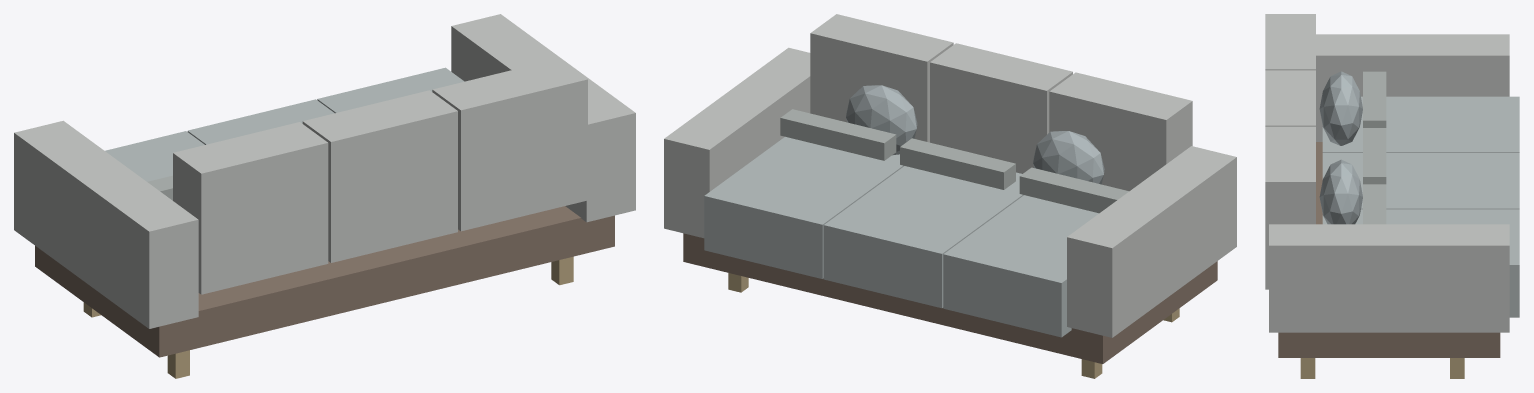
Rendered from sofa_atelier.glb.
3 renders of one model, left to right at view 1: azimuth 30°, elevation 25°; view 2: azimuth 150°, elevation 25°; view 3: azimuth 270°, elevation 25°, orthographic. The views are drawn at different scales.
Visible parts, largest first — view 1: sofa_atelier; view 2: sofa_atelier; view 3: sofa_atelier.
Boxes of the visible parts, <box> form: sofa_atelier: <box>14,14,635,378</box>; sofa_atelier: <box>664,14,1236,378</box>; sofa_atelier: <box>1265,14,1519,378</box>.
Bounding box in the file's own units: 3.45 × 1.48 × 1.75.
